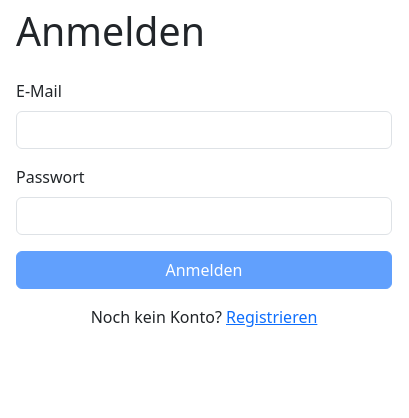
Test: LoginForm › shows the backend error and re-enables the button on failure
Type "member@example.com" into the field labelled "E-Mail" at (204, 130), box [16,111,392,149]
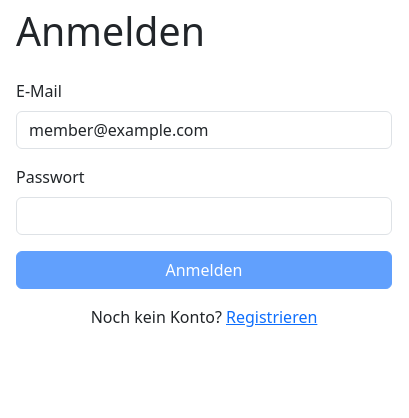
Type "correct horse" into the password field labelled "Passwort" at (204, 216), box [16,197,392,235]
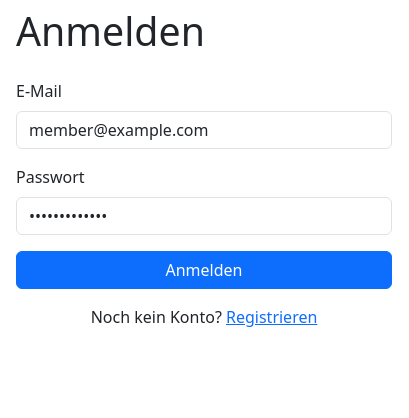
Click the button "Anmelden" at (204, 270), box [16,251,392,289]
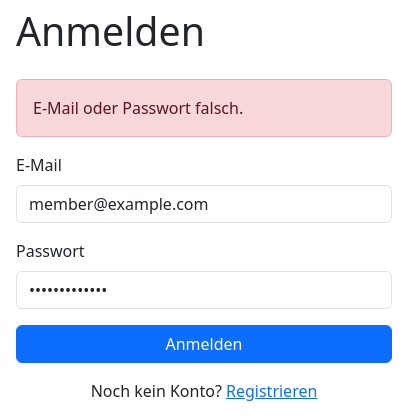
Expected: the button "Anmelden" is enabled, [16,325,392,363]
Expected: the text "E-Mail oder Passwort falsch." is shown, [16,79,392,137]
